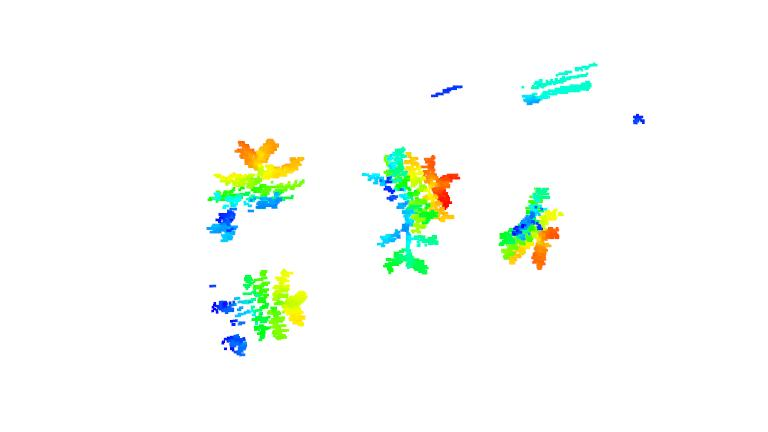chickpea: (363, 142, 454, 276), (202, 135, 303, 242), (211, 266, 309, 339), (492, 182, 567, 271)
